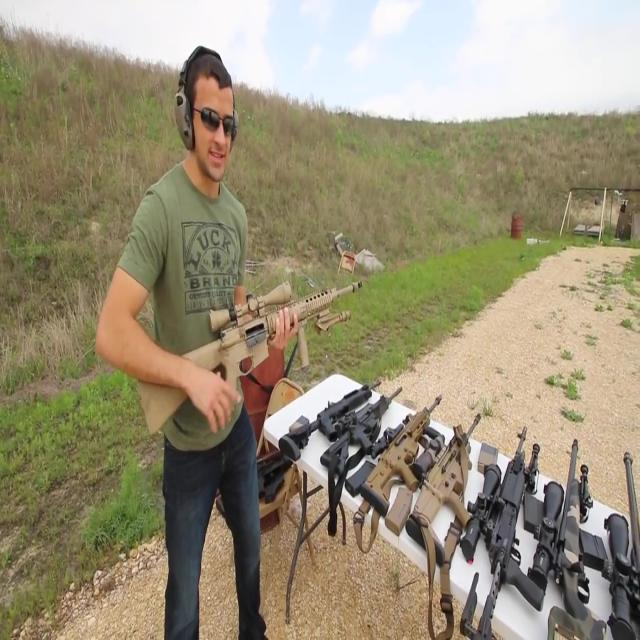Weapon: (219, 353, 640, 640), (95, 281, 379, 436)
